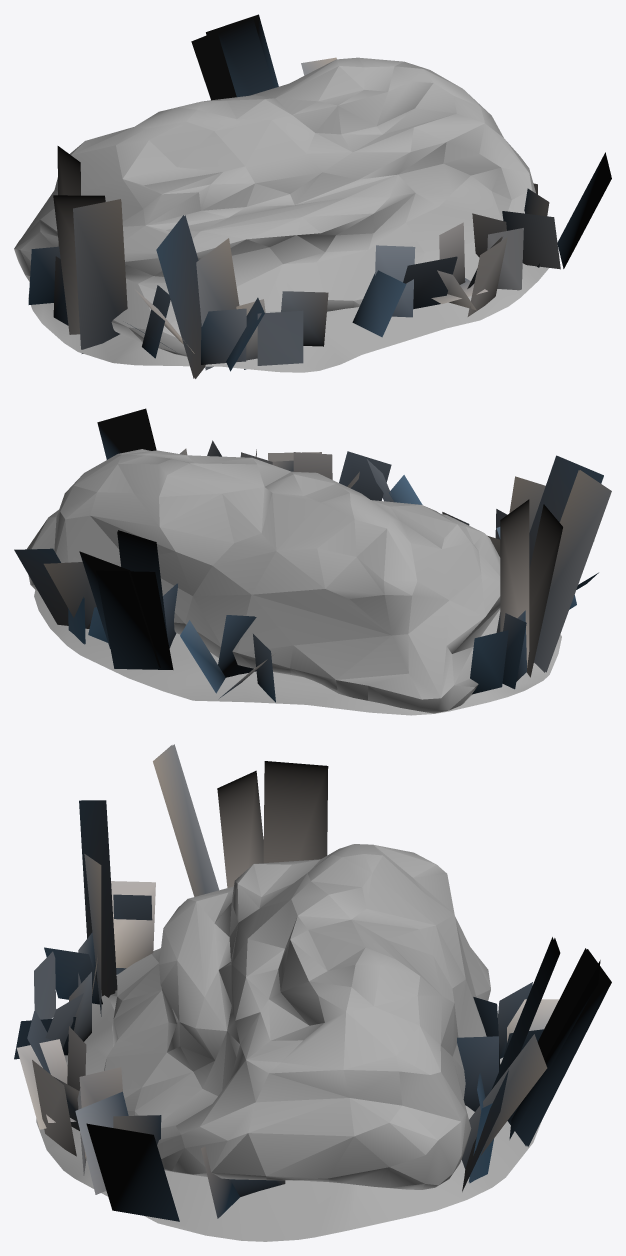
Rendered from FeatureRockStacked.fbx.
3 views of the same model, one above another, from view 1: azimuth 30°, elevation 25°; view 2: azimuth 150°, elevation 25°; view 3: azimuth 270°, elevation 25° (orthographic). The views are drawn at different scales.
Visible parts, largest first — view 1: FeatureStackedRock, FeatureStackedRockGrass, FeatureStackedTallGrass, FeatureStackedMud; view 2: FeatureStackedRock, FeatureStackedTallGrass, FeatureStackedRockGrass, FeatureStackedMud; view 3: FeatureStackedRock, FeatureStackedTallGrass, FeatureStackedRockGrass, FeatureStackedMud.
Part boxes in pixels (x1,y1,x2,y2): FeatureStackedRock: (14,57,535,356); FeatureStackedRockGrass: (28,183,560,371); FeatureStackedTallGrass: (53,14,611,378); FeatureStackedMud: (28,255,559,372); FeatureStackedRock: (27,449,500,713); FeatureStackedTallGrass: (14,408,611,677); FeatureStackedRockGrass: (68,440,598,702); FeatureStackedMud: (34,590,561,715); FeatureStackedRock: (104,844,490,1189); FeatureStackedTallGrass: (79,744,611,1221); FeatureStackedRockGrass: (14,881,559,1218); FeatureStackedMud: (36,995,541,1241).
Bounding box in the file's own units: 239 × 80.18 × 194.
